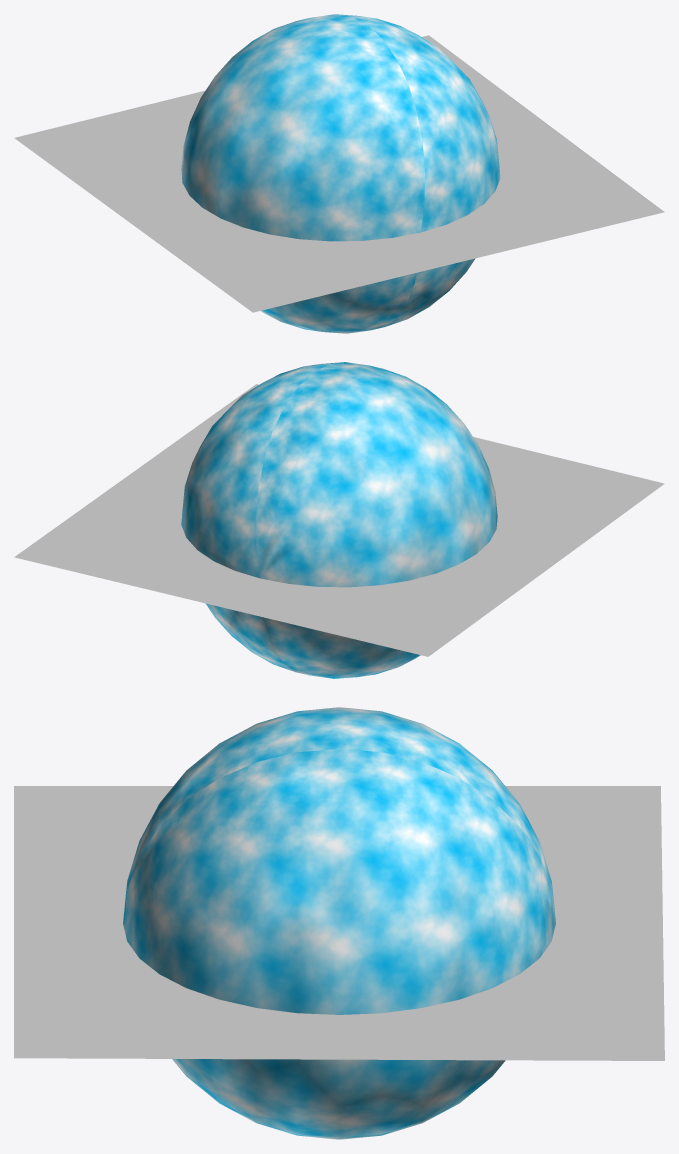
The model's file is NewStage_Maya.fbx.
The picture shows the model from 3 angles, top to bottom: view 1: azimuth 30°, elevation 25°; view 2: azimuth 150°, elevation 25°; view 3: azimuth 270°, elevation 25°; orthographic projection. The views are drawn at different scales.
Parts seen in each view (by area): view 1: 球; view 2: 球; view 3: 球.
Boxes of the visible parts, x1,y1,x2,y2 form: 球: (14,14,664,333); 球: (14,362,664,678); 球: (14,707,664,1139).
Bounding box in the file's own units: 1684 × 1120 × 1683.
